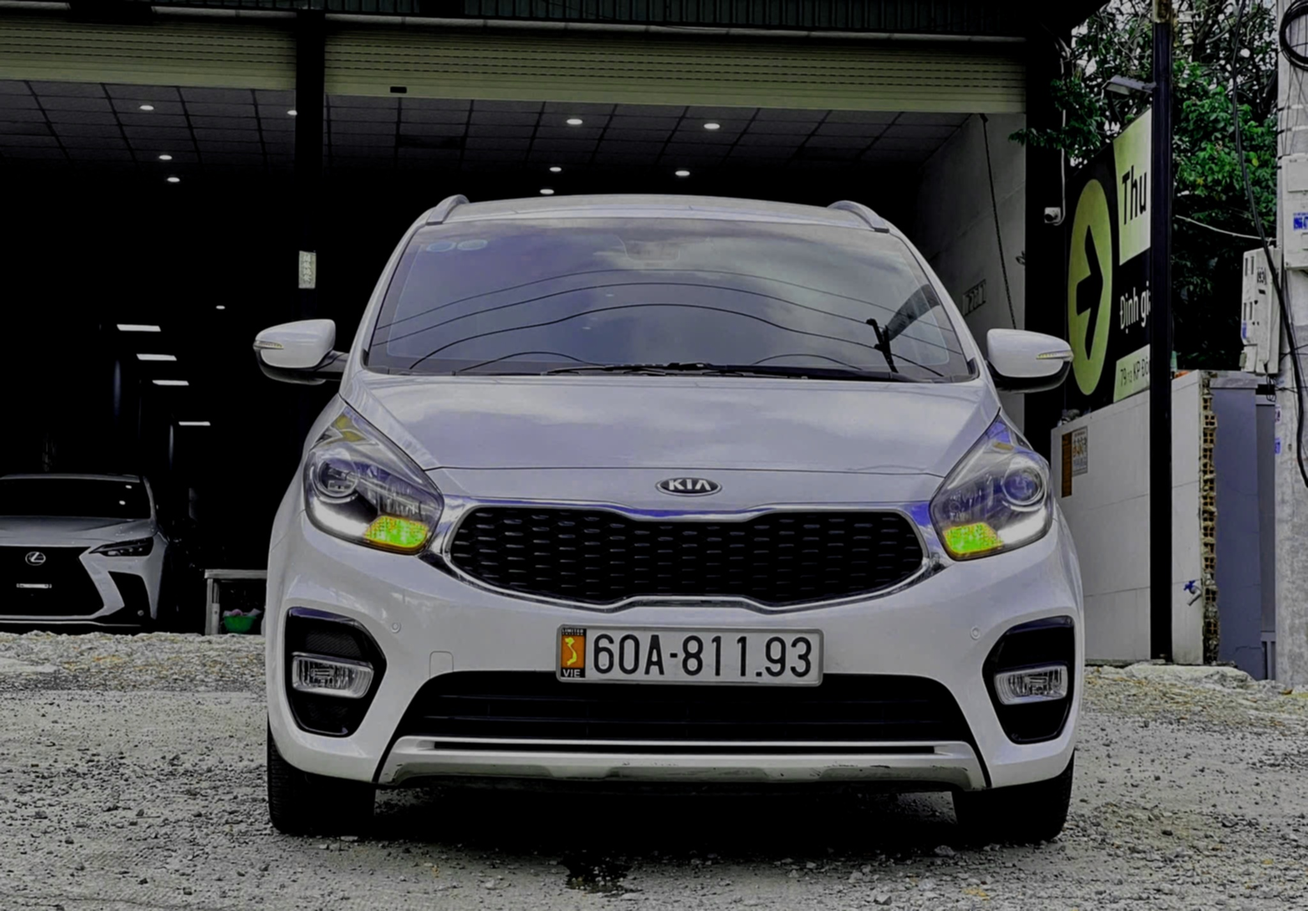Bien-so: (521, 633, 787, 697)
